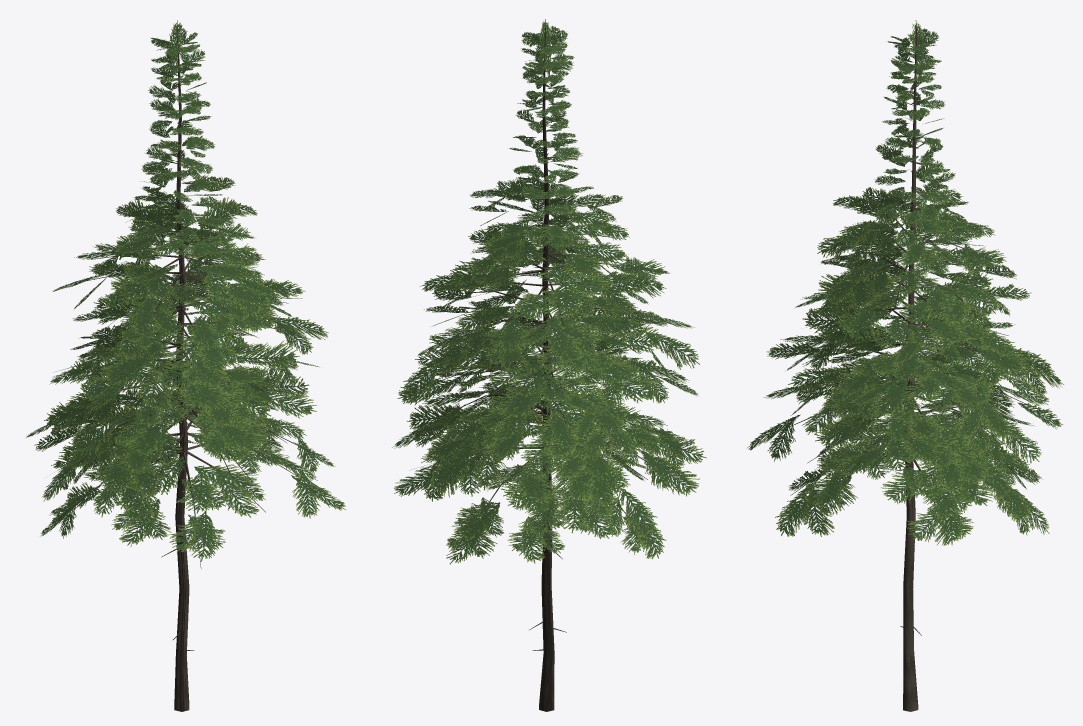
The model's file is near.glb.
The picture shows the model from 3 angles, left to right: view 1: azimuth 30°, elevation 25°; view 2: azimuth 150°, elevation 25°; view 3: azimuth 270°, elevation 25°; orthographic projection.
Parts seen in each view (by area): view 1: spruce_04; view 2: spruce_04; view 3: spruce_04.
Boxes of the visible parts, x1,y1,x2,y2 form: spruce_04: (26, 20, 345, 711); spruce_04: (392, 19, 706, 711); spruce_04: (747, 20, 1063, 711).
Size of the model in its own units: 9.49 by 21.75 by 9.32.
Materials: 2 (2 with a texture image).
